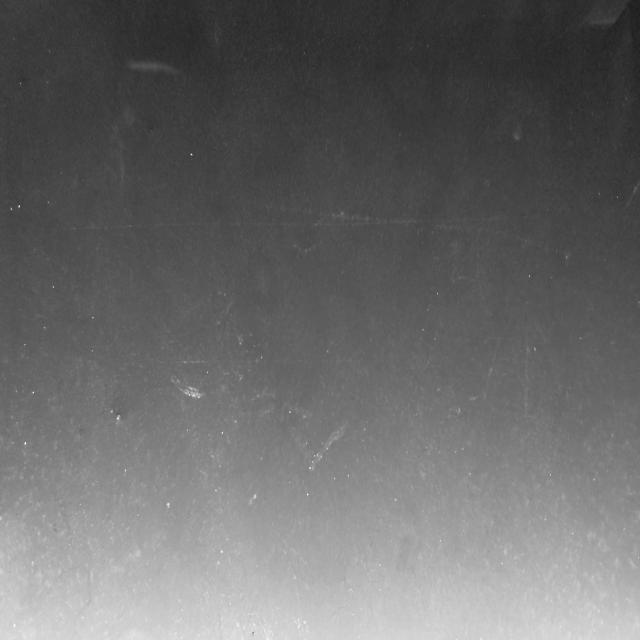beta: (213, 191, 573, 262), (466, 330, 503, 404), (521, 328, 532, 426), (624, 177, 640, 215)
